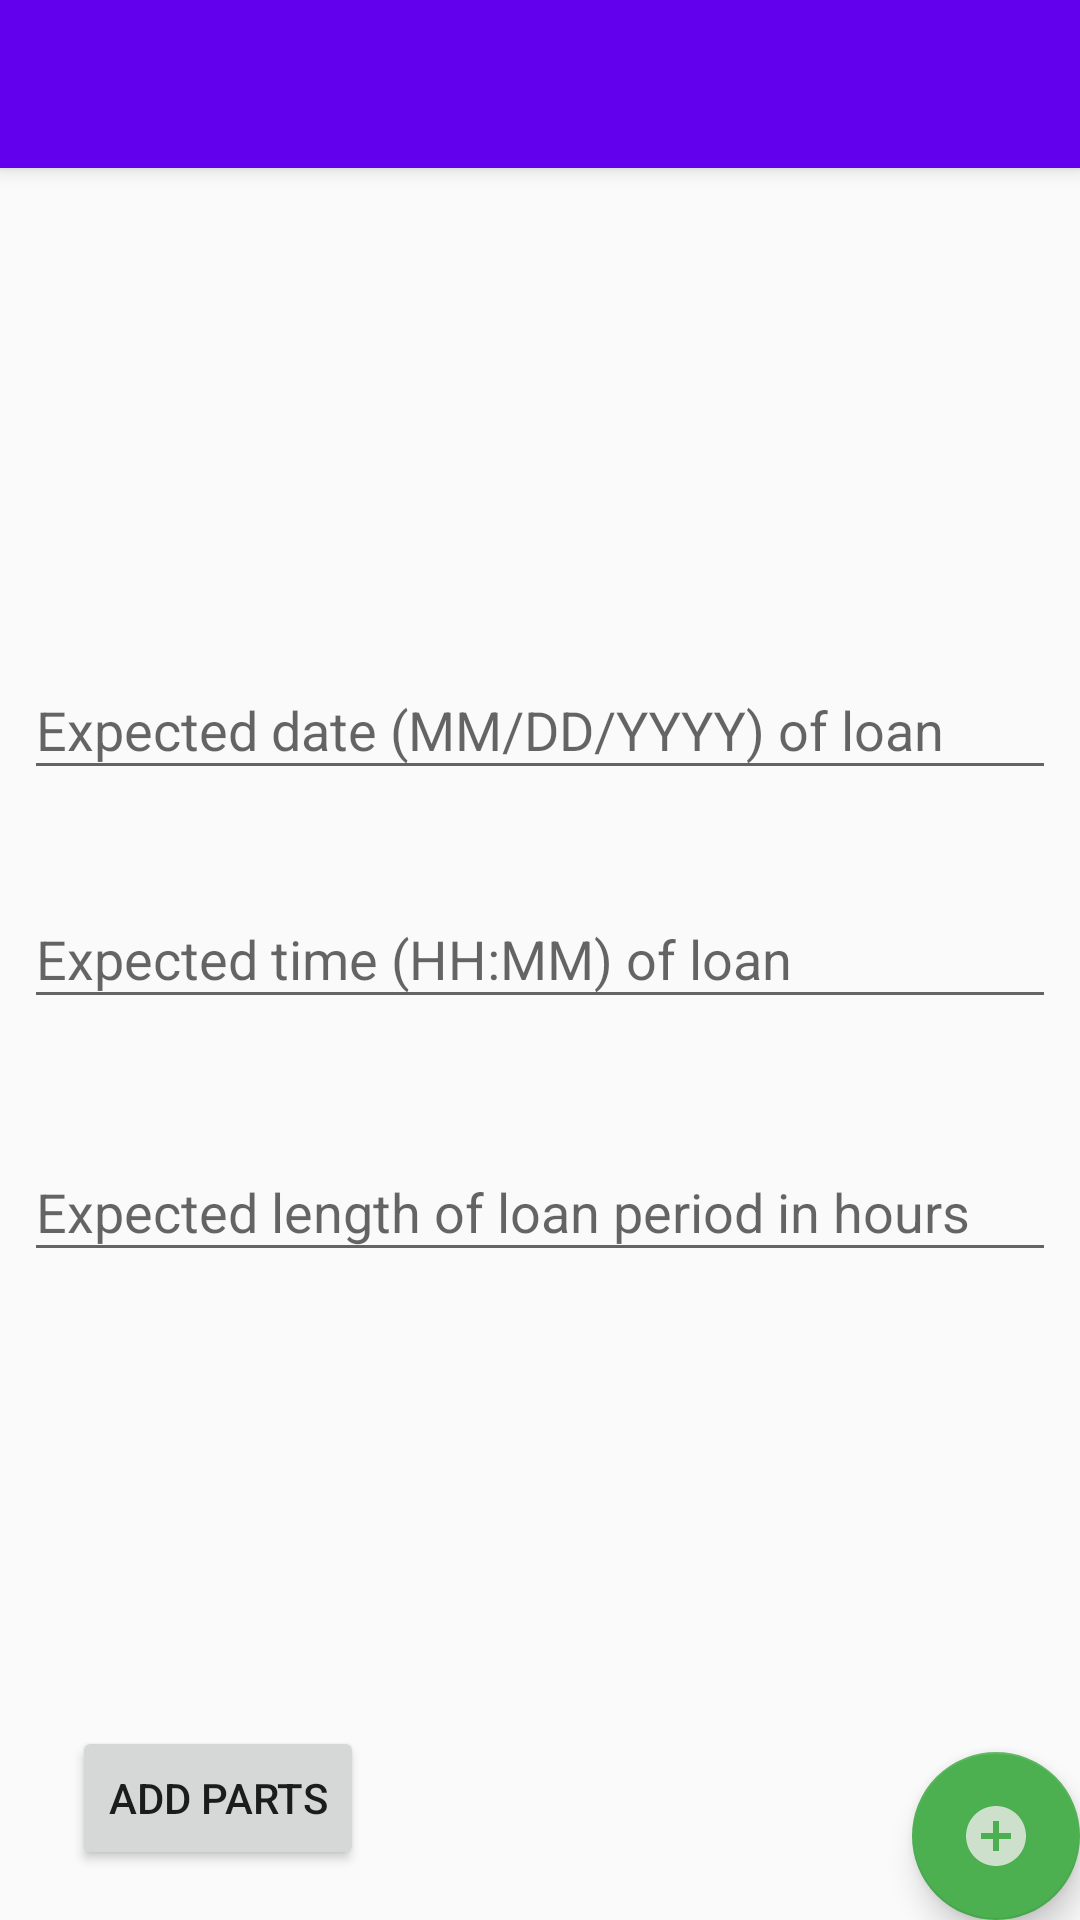

Where to tap for icons on this 1080px×1920px app screen, as point (x, y):
add circle: point (996, 1836)
